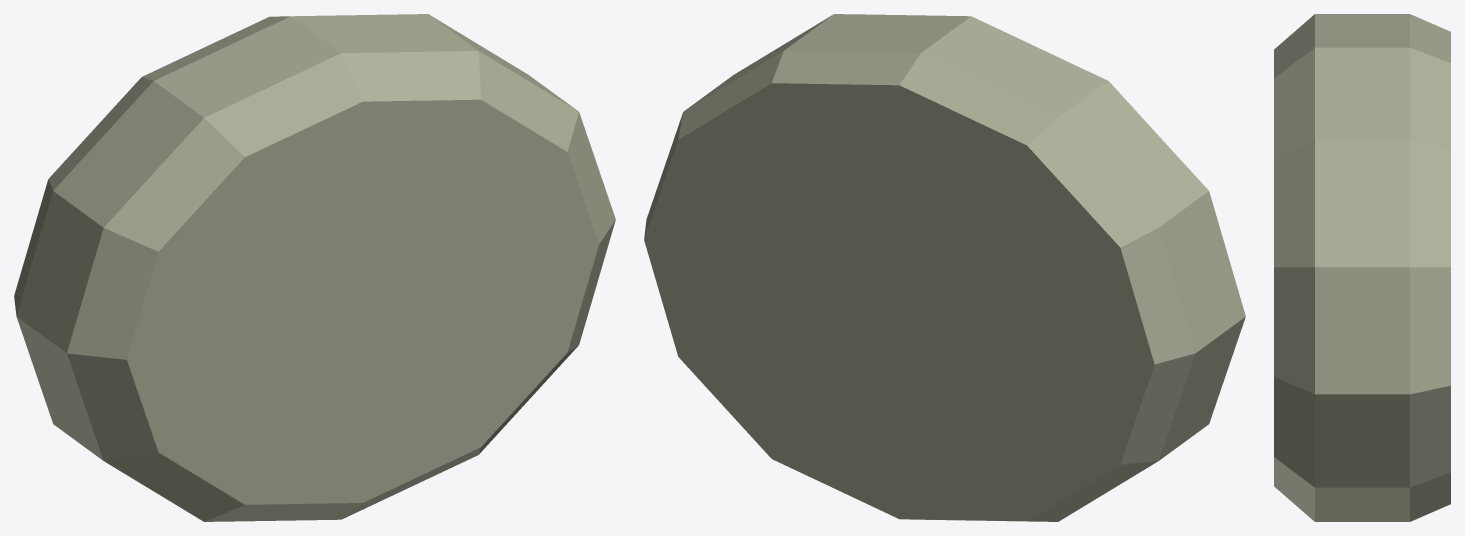
Rendered from centipede_segment_3.obj.
The picture shows the model from 3 angles, left to right: view 1: azimuth 30°, elevation 25°; view 2: azimuth 150°, elevation 25°; view 3: azimuth 270°, elevation 25°; orthographic projection. The views are drawn at different scales.
Parts seen in each view (by area): view 1: centipede_segment_3; view 2: centipede_segment_3; view 3: centipede_segment_3.
Part boxes in pixels (x1=…): centipede_segment_3: x1=14, y1=14, x2=615, y2=521; centipede_segment_3: x1=644, y1=14, x2=1245, y2=521; centipede_segment_3: x1=1274, y1=14, x2=1450, y2=521.
Size of the model in its own units: 1.32 by 1.07 by 0.39.
